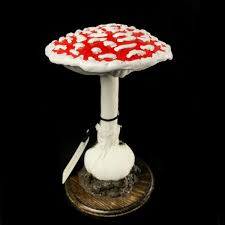Amanita muscaria: (38, 22, 176, 135)
